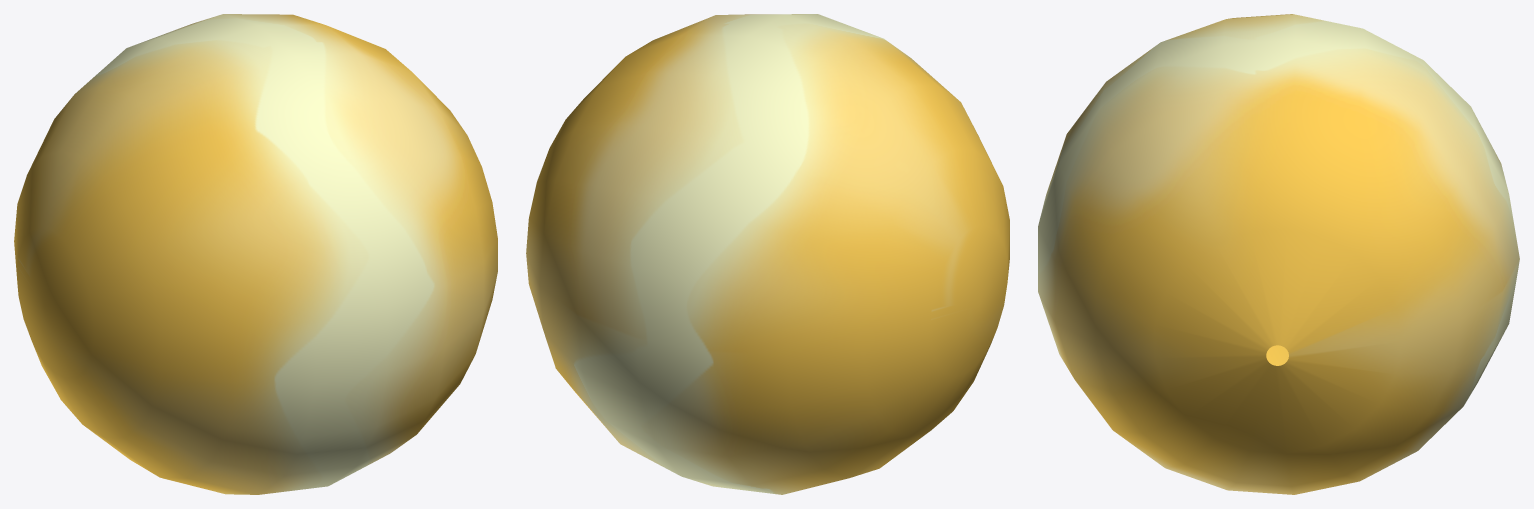
Rendered from sc_ballExplosion_morph_inverted.FBX.
3 renders of one model, left to right at view 1: azimuth 30°, elevation 25°; view 2: azimuth 150°, elevation 25°; view 3: azimuth 270°, elevation 25°, orthographic.
Visible parts, largest first — view 1: exp_morph; view 2: exp_morph; view 3: exp_morph.
Part boxes in pixels (left/top/right/bottom): exp_morph: left=14, top=14, right=497, bottom=494; exp_morph: left=526, top=14, right=1009, bottom=494; exp_morph: left=1038, top=14, right=1519, bottom=494.
Bounding box in the file's own units: 89.02 × 88.67 × 88.42.
